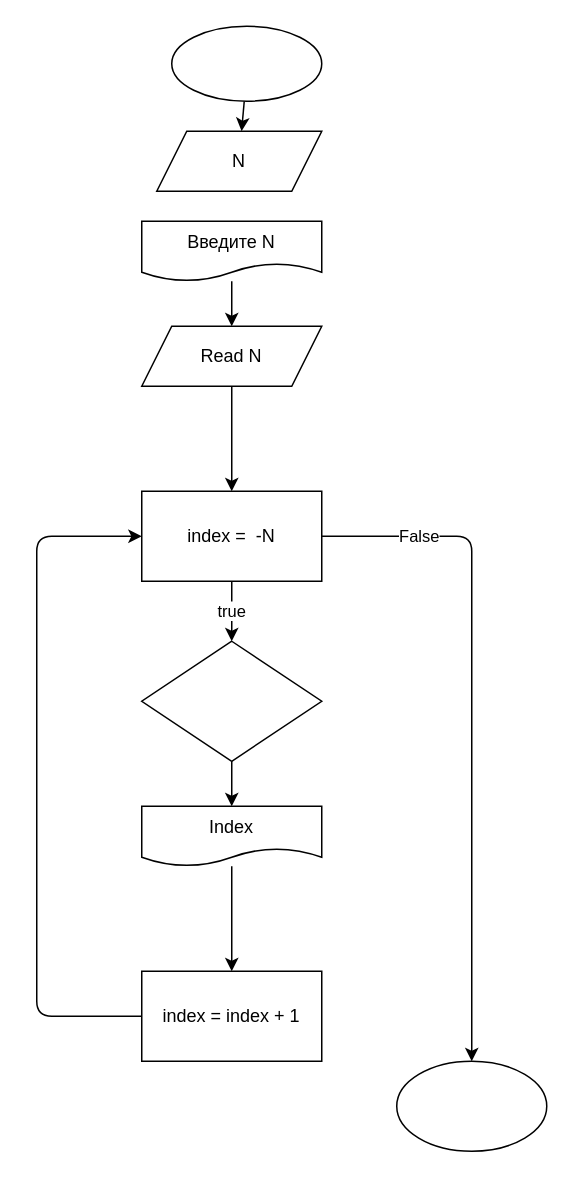
This 573x1178 diagram has some shape labels left out. Here are the shapes that lost their labels. From the top down, the centre of each, then its label:
the point at 246,63: Start
the point at 231,700: Index <= N
the point at 471,1105: END
